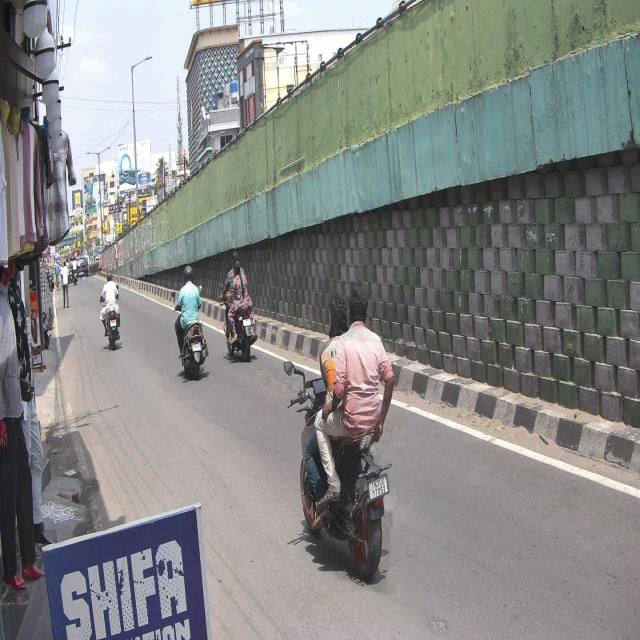double_rider: (284, 276, 396, 579)
